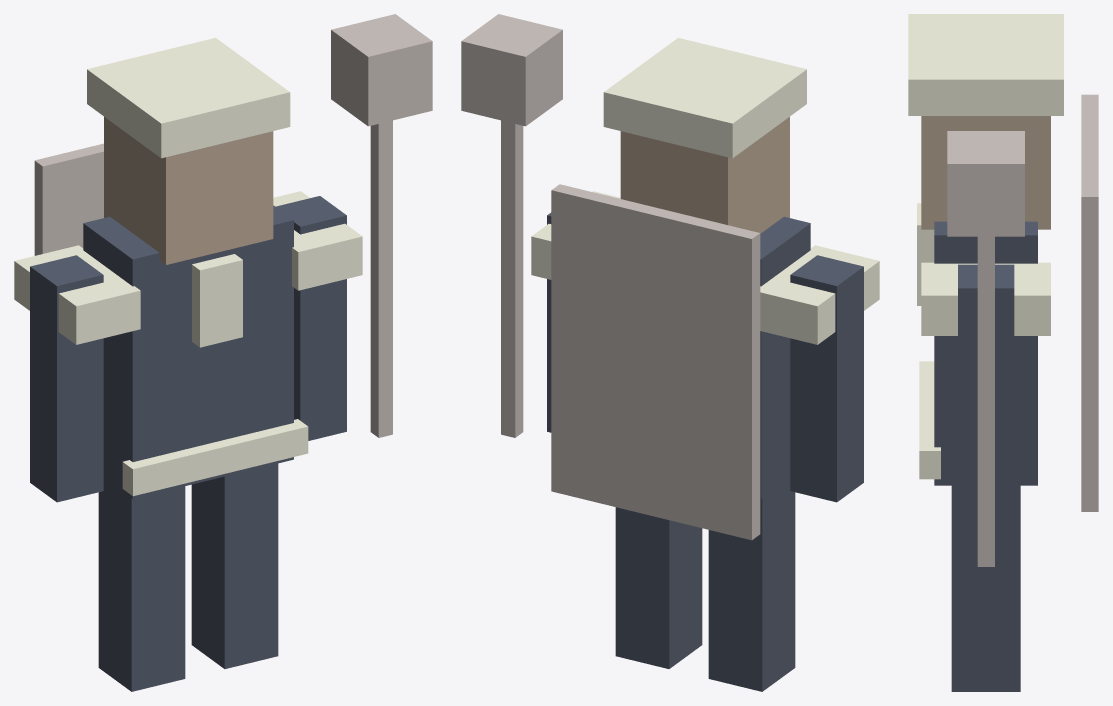
File: 05_bryn_gantryn_responder_of_drone.glb
3 views of the same model, side by side, from view 1: azimuth 30°, elevation 25°; view 2: azimuth 150°, elevation 25°; view 3: azimuth 270°, elevation 25° (orthographic). The views are drawn at different scales.
Parts seen in each view (by area): view 1: Bryn Gantryn, Responder of Drone; view 2: Bryn Gantryn, Responder of Drone; view 3: Bryn Gantryn, Responder of Drone.
Part boxes in pixels (x1,y1,x2,y2): Bryn Gantryn, Responder of Drone: (14,14,432,691); Bryn Gantryn, Responder of Drone: (461,14,879,691); Bryn Gantryn, Responder of Drone: (908,14,1098,691).
Size of the model in its own units: 1.04 by 1.56 by 0.4436.
